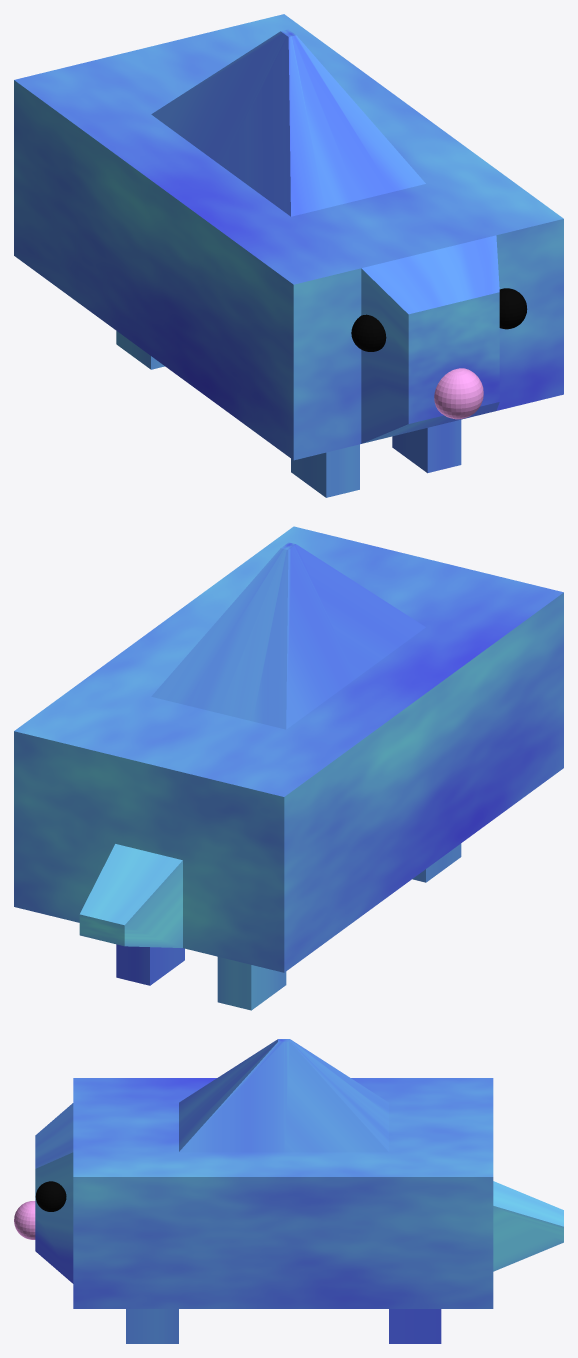
Rendered from enemy.obj.
The picture shows the model from 3 angles, top to bottom: view 1: azimuth 30°, elevation 25°; view 2: azimuth 150°, elevation 25°; view 3: azimuth 270°, elevation 25°; orthographic projection. The views are drawn at different scales.
Parts seen in each view (by area): view 1: 立方体.002, 球.003, 球.004, 球.002; view 2: 立方体.002; view 3: 立方体.002, 球.002, 球.003.
Part boxes in pixels (left/top/right/bottom): 立方体.002: left=14, top=14, right=563, bottom=497; 球.003: left=434, top=368, right=483, bottom=419; 球.004: left=351, top=314, right=386, bottom=351; 球.002: left=499, top=288, right=527, bottom=329; 立方体.002: left=14, top=526, right=563, bottom=1010; 立方体.002: left=35, top=1039, right=563, bottom=1343; 球.002: left=35, top=1181, right=66, bottom=1211; 球.003: left=14, top=1201, right=35, bottom=1239.
Bounding box in the file's own units: 0.7887 × 1.04 × 1.85.
Materials: 4 (4 with a texture image).
